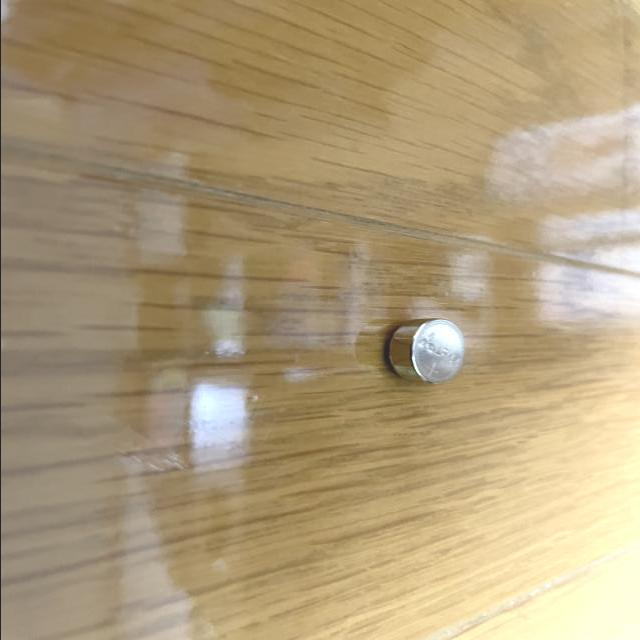COIN: (384, 318, 466, 383)
